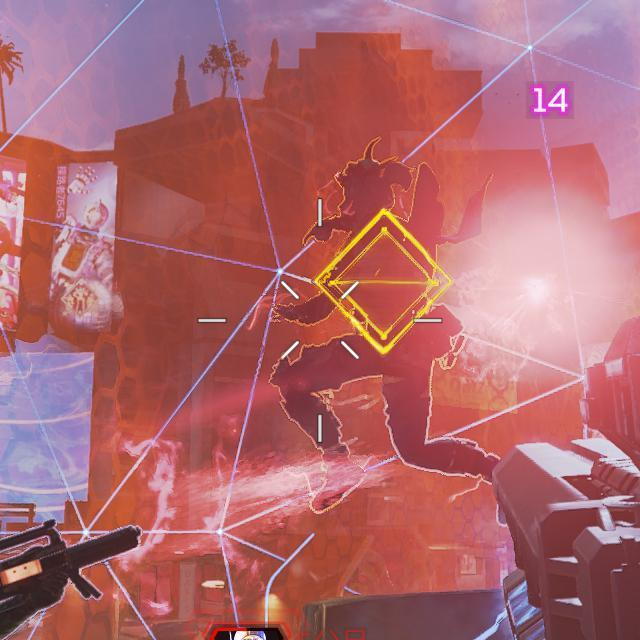avatar: (267, 154, 469, 515)
object: (313, 208, 453, 358)
